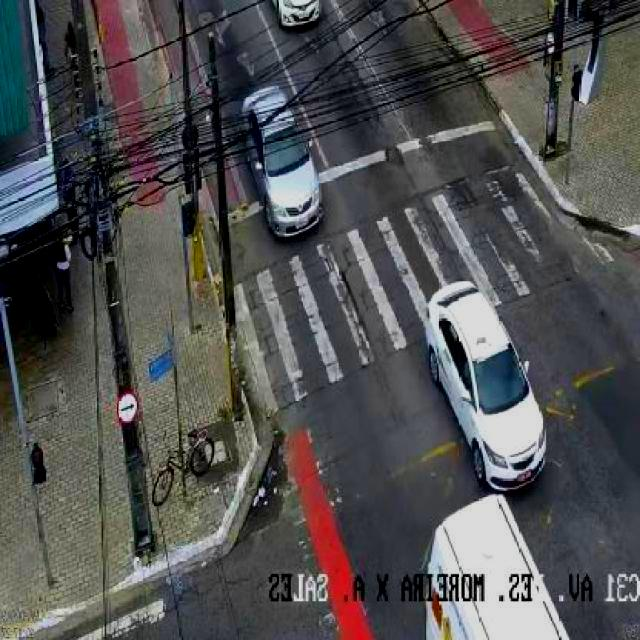Car: (424, 270, 542, 502), (240, 84, 332, 248), (270, 0, 342, 38), (639, 158, 640, 158)
Cycle: (136, 428, 238, 515)
Van: (405, 498, 572, 640)
